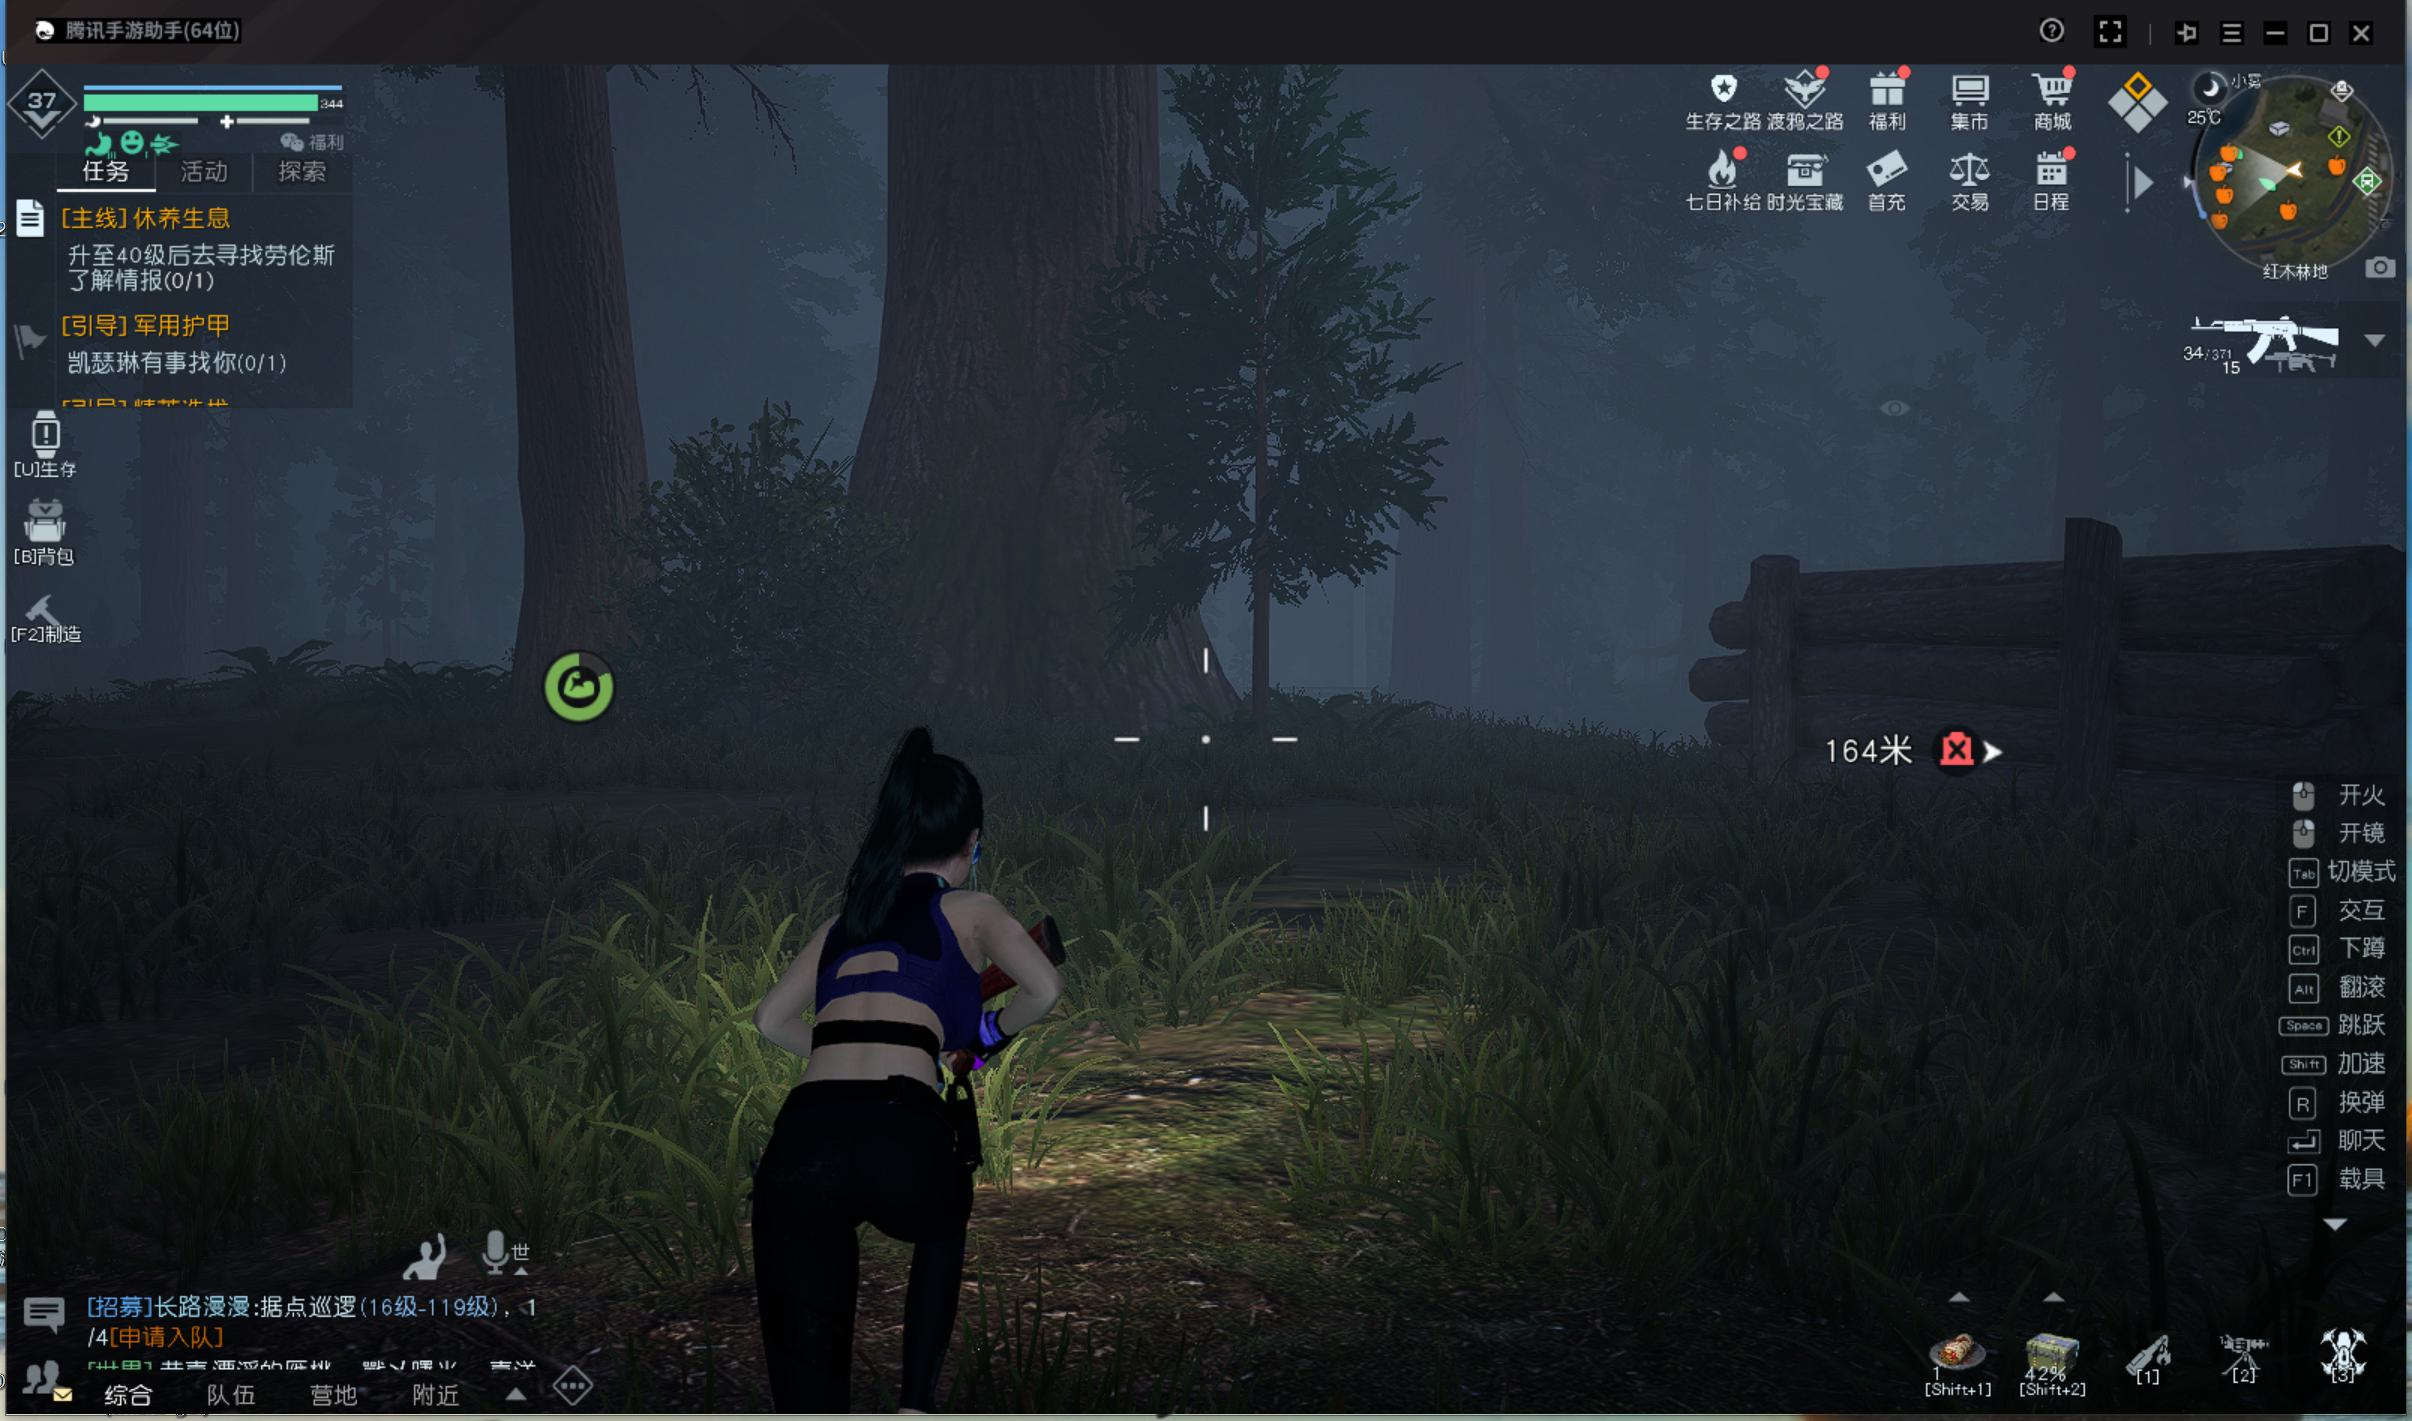tree: (852, 78, 1226, 797), (485, 90, 672, 766), (1380, 294, 1478, 738)
